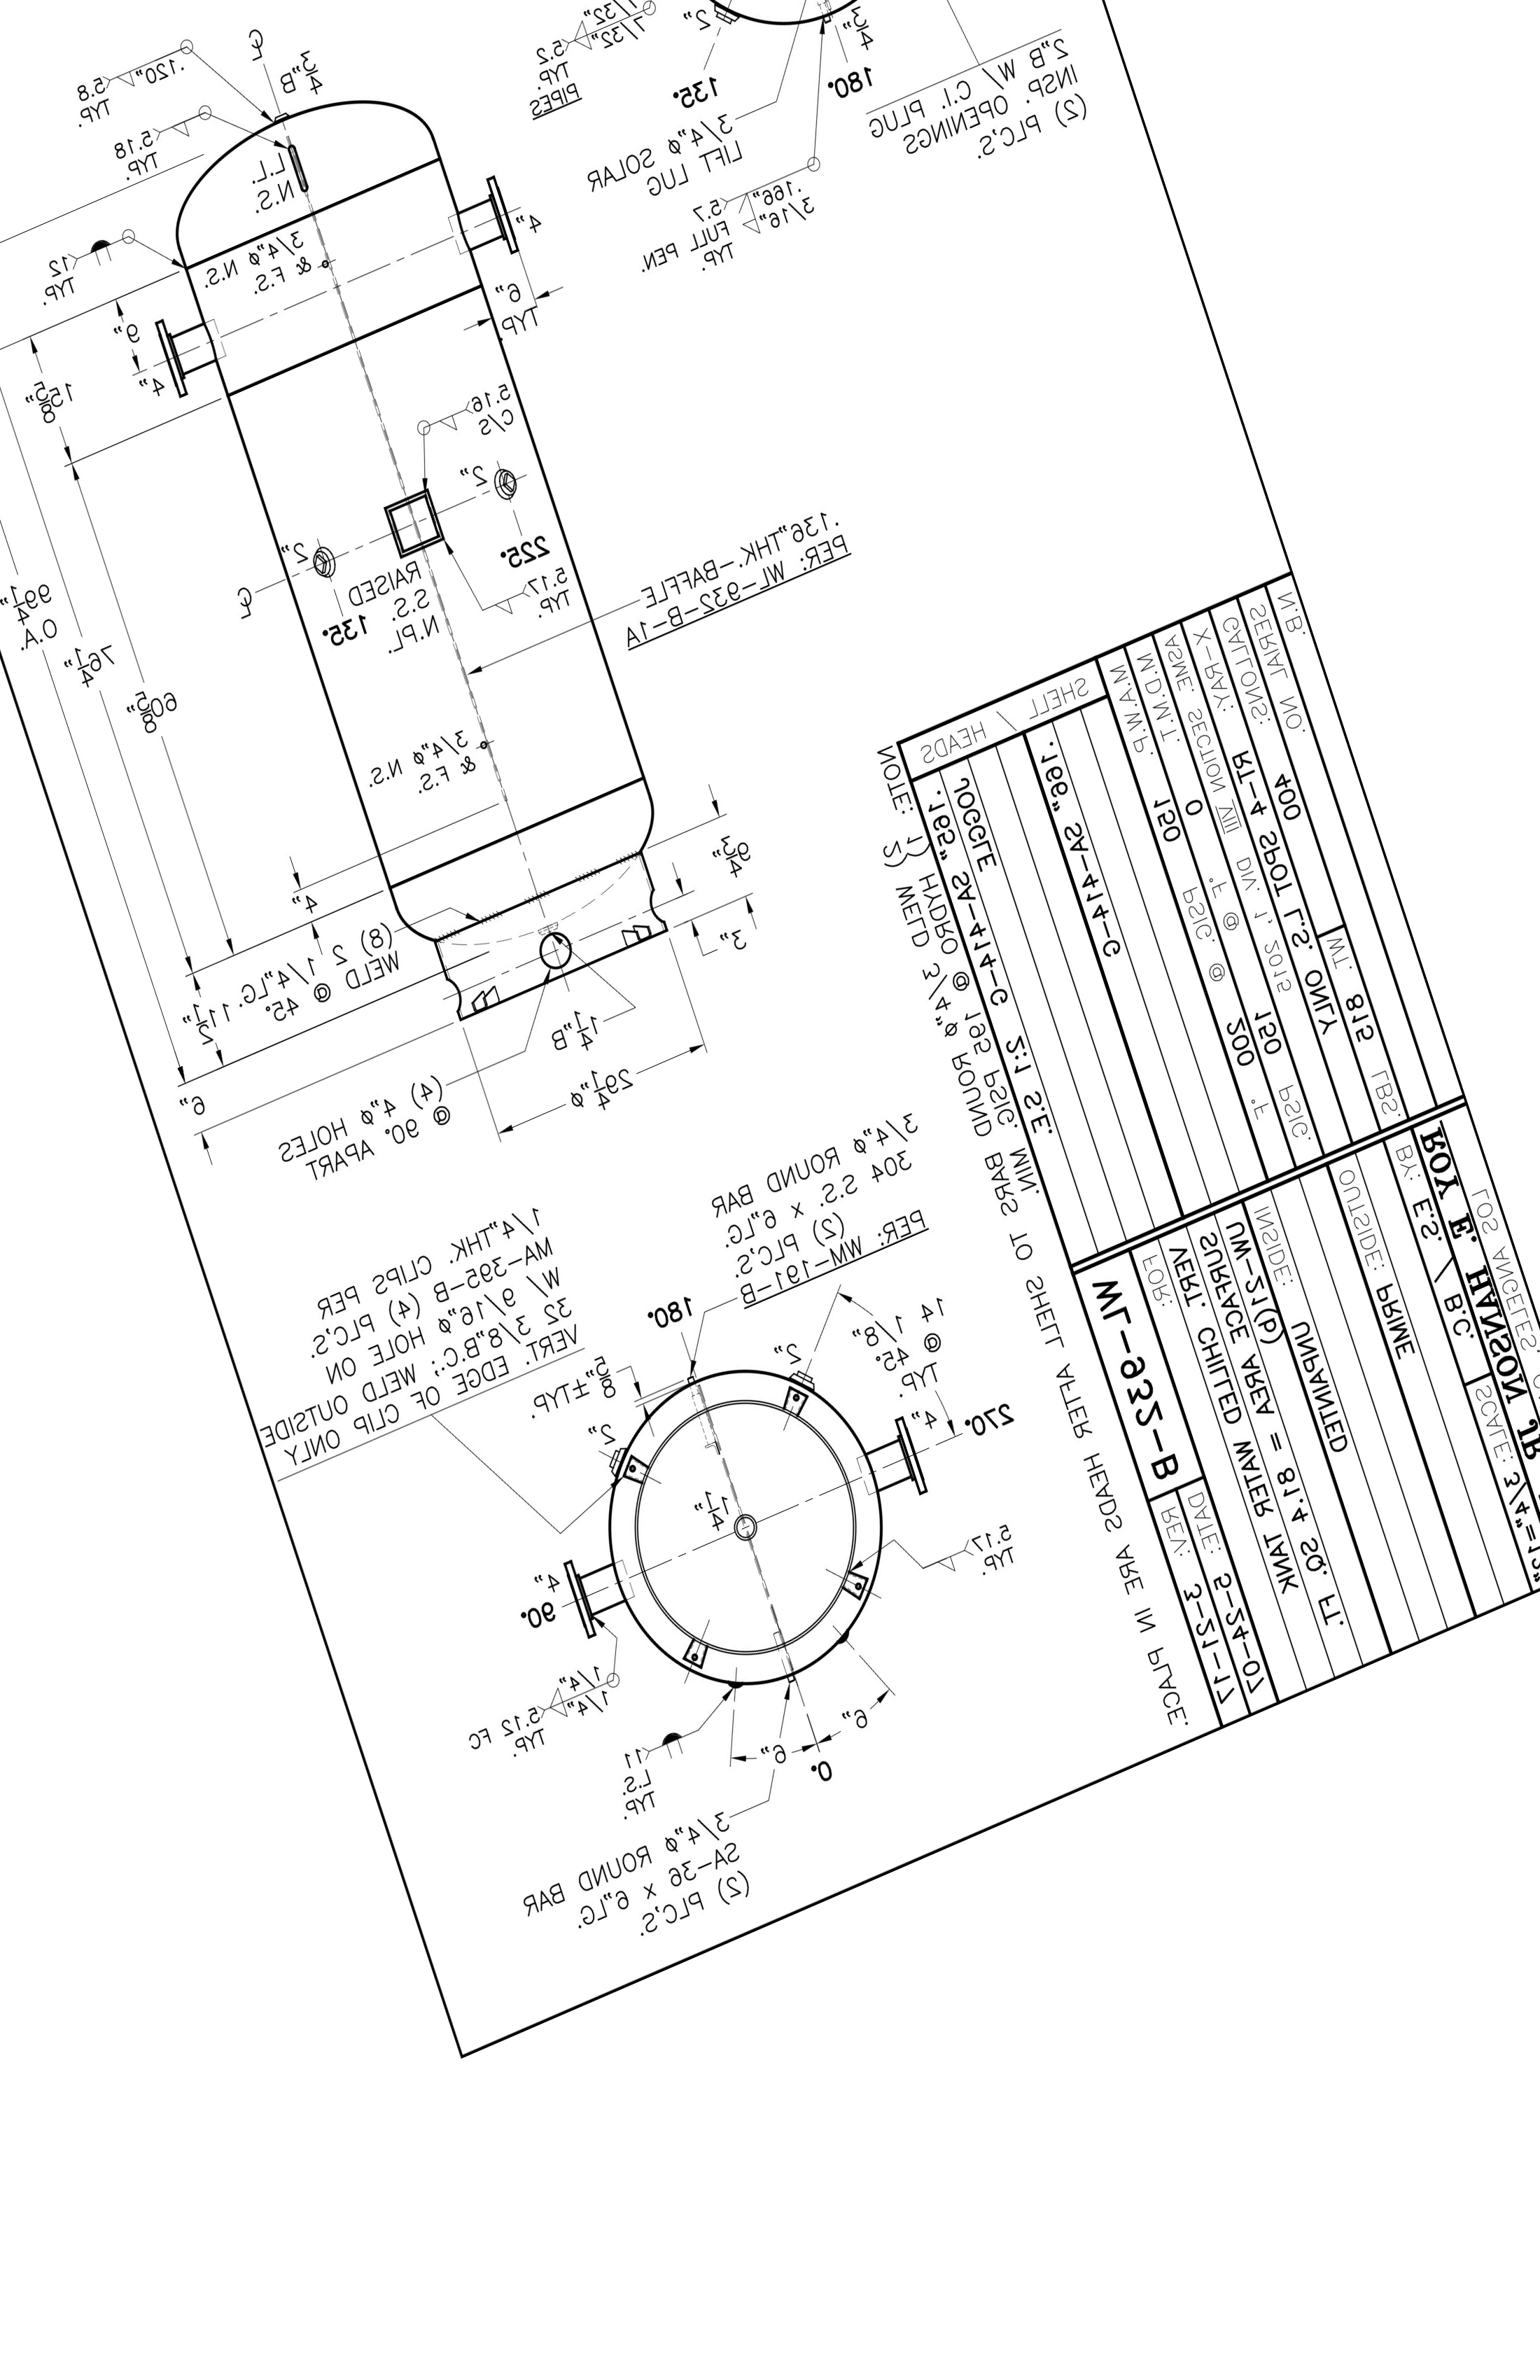Nozzle: (461, 1523, 647, 1662), (813, 1402, 987, 1523), (109, 293, 262, 397), (414, 165, 565, 269)
